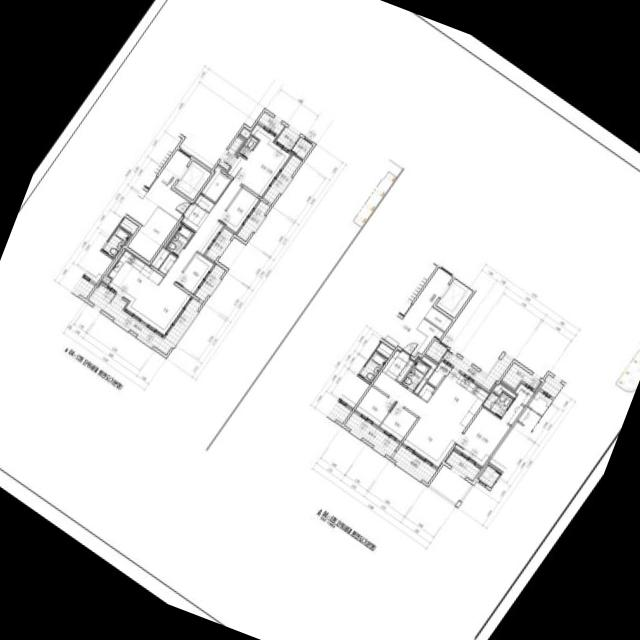background: (0, 0, 640, 640)
space_balconi: (88, 284, 201, 355), (442, 350, 511, 390), (344, 412, 398, 456), (262, 155, 301, 204), (391, 445, 436, 483), (236, 200, 269, 241), (194, 264, 225, 301), (444, 450, 480, 481), (501, 362, 540, 389), (205, 228, 233, 261), (218, 137, 242, 169), (257, 112, 284, 135), (276, 126, 299, 150), (71, 277, 94, 299)
space_bedroom: (226, 122, 292, 197), (453, 400, 524, 468), (219, 188, 260, 234), (354, 386, 395, 427), (176, 252, 215, 294), (378, 403, 417, 442)
space_dressroom: (514, 381, 535, 405)
space_elevator: (174, 160, 211, 200), (435, 278, 472, 317)
space_elevator_hall: (381, 267, 452, 356), (125, 149, 191, 226)
space_front: (382, 349, 414, 382), (180, 202, 208, 231)
space_kitchen: (427, 367, 489, 429), (108, 249, 162, 315)
space_living_room: (136, 180, 241, 335), (372, 371, 464, 469), (83, 251, 113, 283)
space_multipurpose_space: (427, 359, 452, 387)
space_other: (127, 207, 177, 261), (200, 164, 230, 202), (413, 319, 443, 357), (414, 355, 437, 394), (102, 247, 125, 283), (424, 307, 452, 331), (425, 340, 447, 362), (150, 247, 169, 269), (193, 193, 214, 212), (158, 253, 176, 274), (493, 383, 516, 398), (119, 217, 138, 234), (418, 383, 434, 401), (239, 126, 251, 138)
space_outdoor_room: (291, 137, 312, 159)
space_staircase: (399, 263, 436, 315), (144, 136, 181, 188)
space_toilet: (102, 226, 130, 258), (401, 359, 429, 390), (165, 224, 193, 255), (483, 392, 513, 417), (239, 136, 257, 157)
